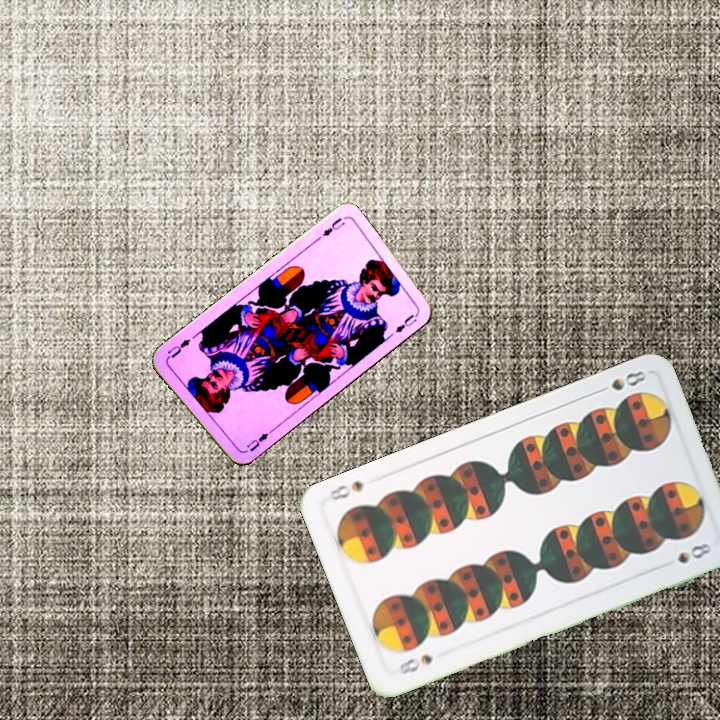EU: (318, 213, 347, 239), (242, 429, 271, 454)
S8: (591, 366, 649, 396), (394, 650, 436, 677)
